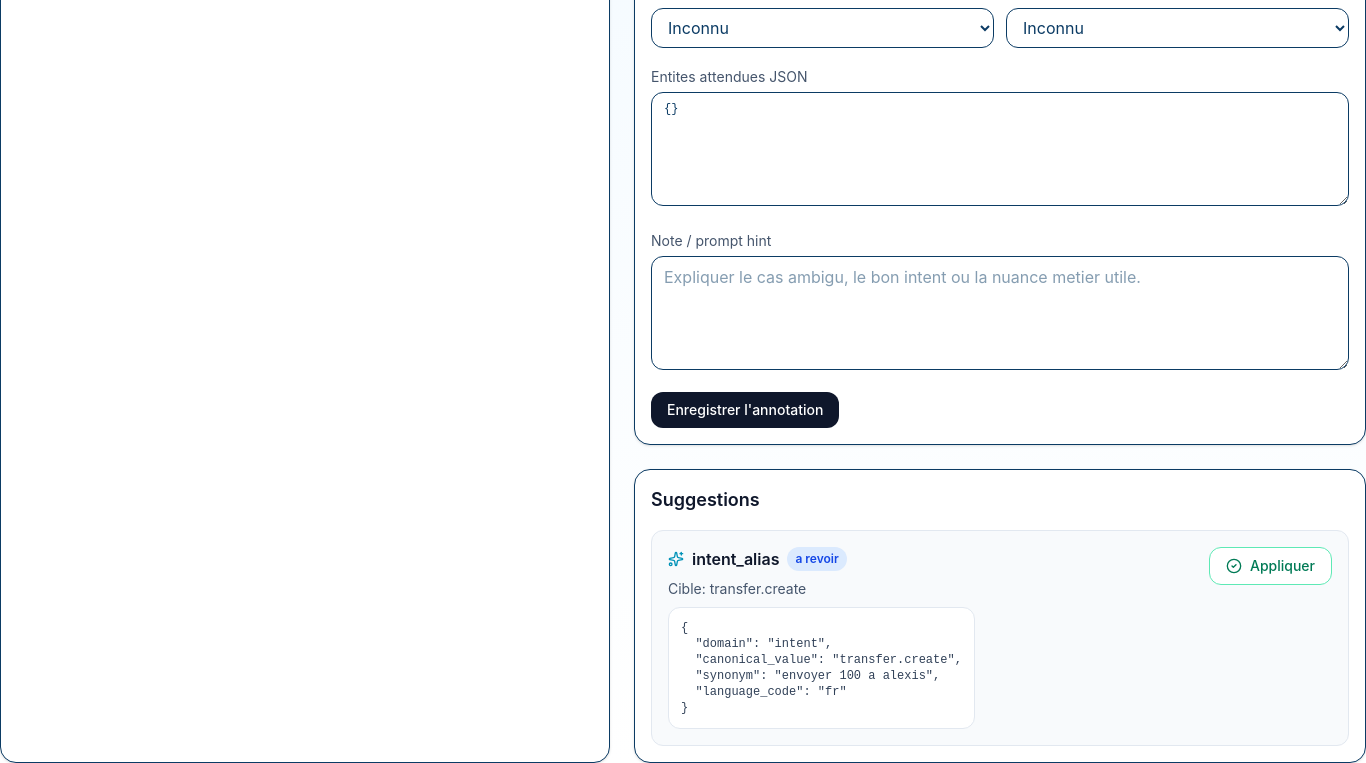
Scenario: AdminAiFeedbackPage › loads audit logs, detail and applies a suggestion
(page scrolled)
Check: the text "intent_alias" is shown, box [692,547,779,571]
Click the button "Appliquer" at (1270, 566), box [1209,547,1332,585]
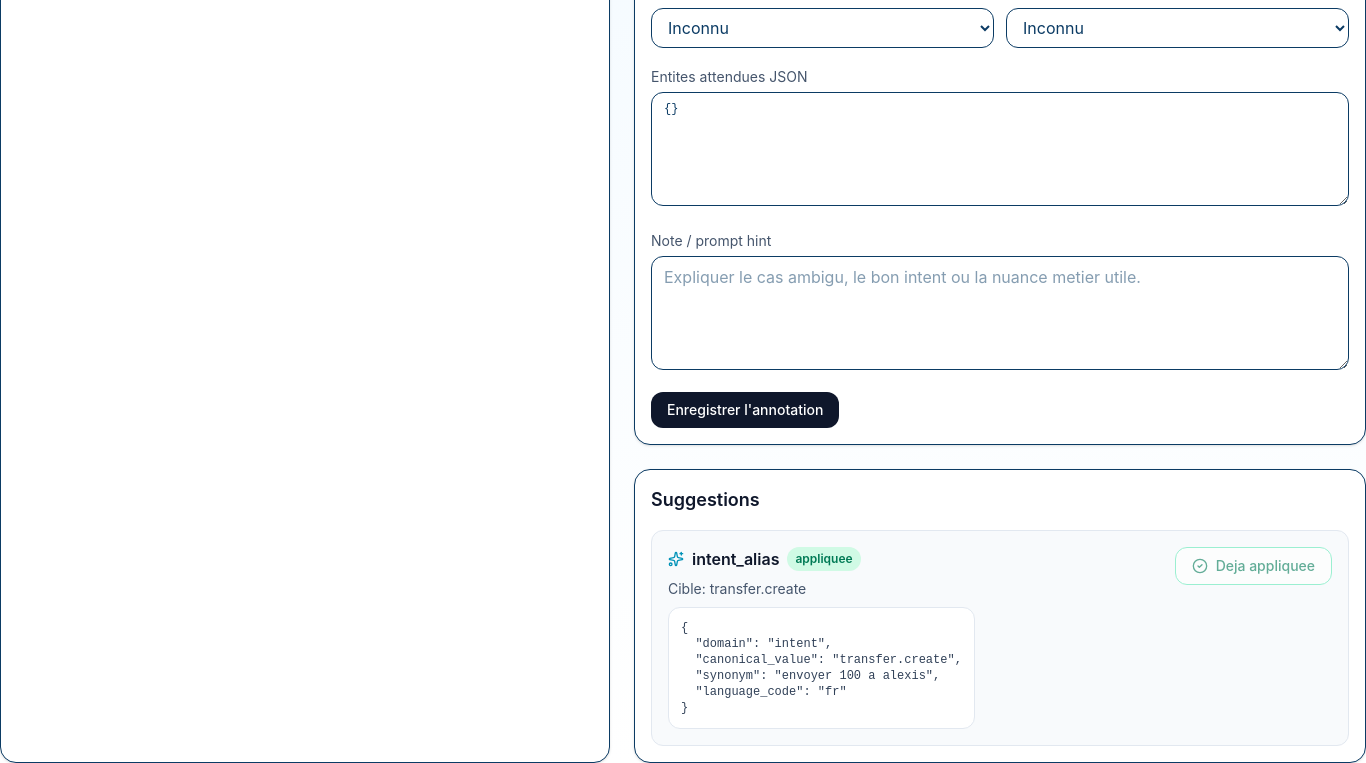
Check: the text "appliquee" is shown, box [787,547,861,571]
